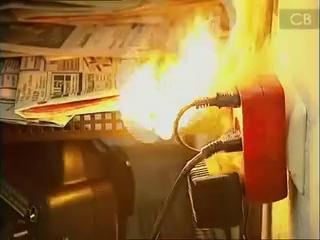Fire: (118, 1, 270, 117)
